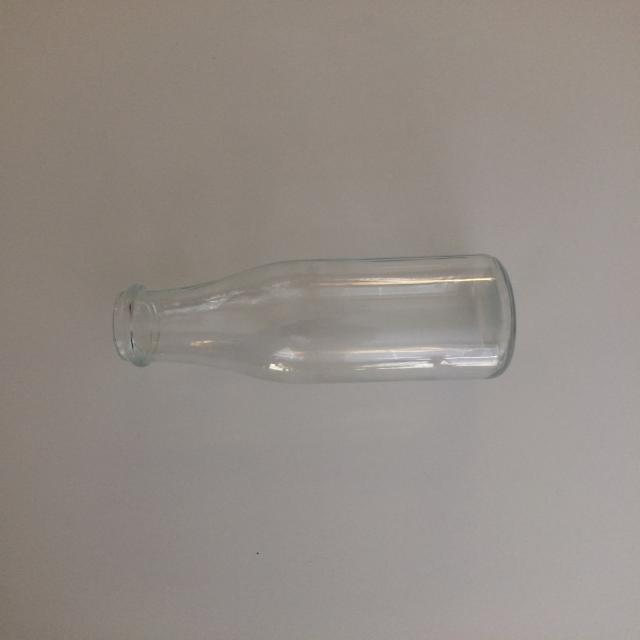Glass: (97, 248, 528, 394)
